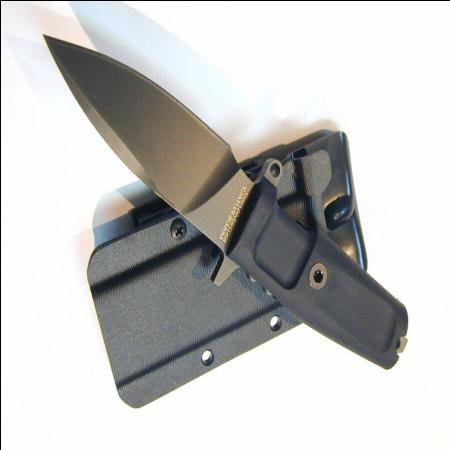long weapon: (38, 29, 252, 255)
